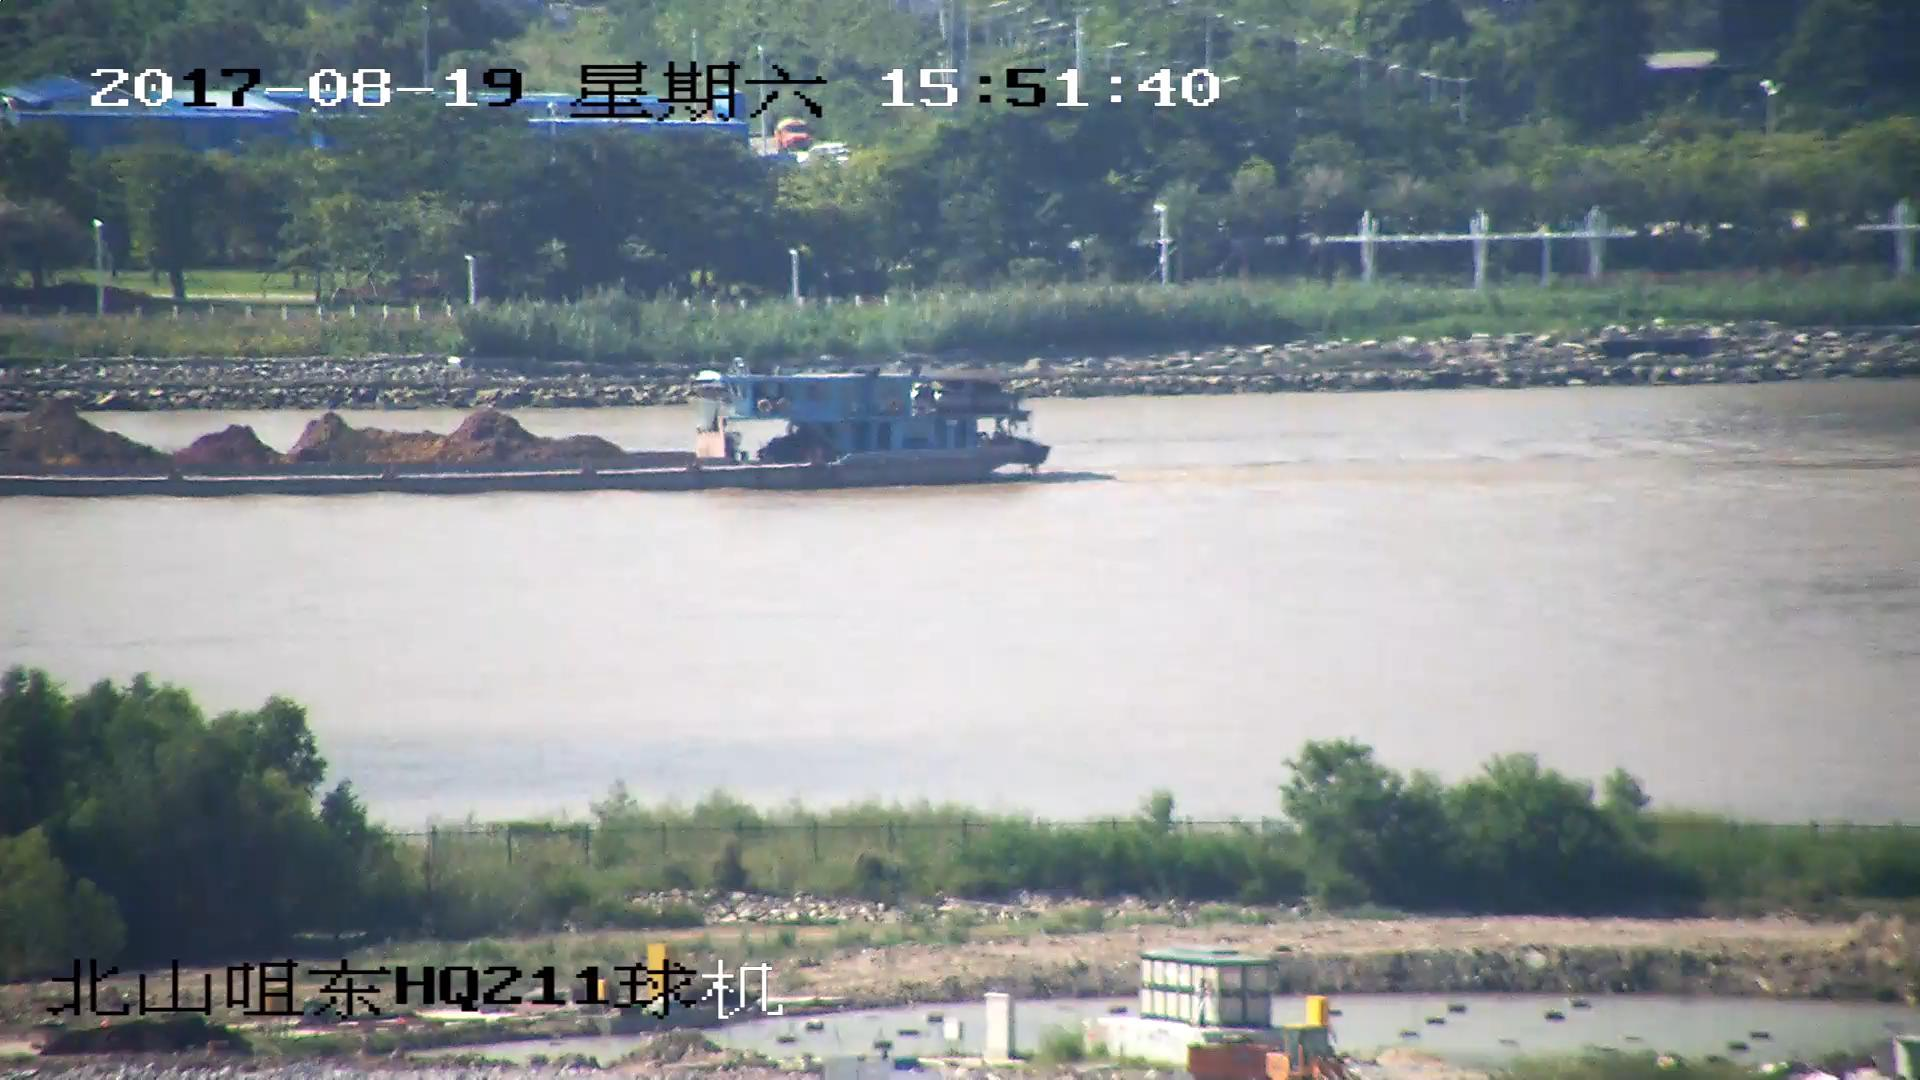Ship: (3, 365, 1052, 498)
